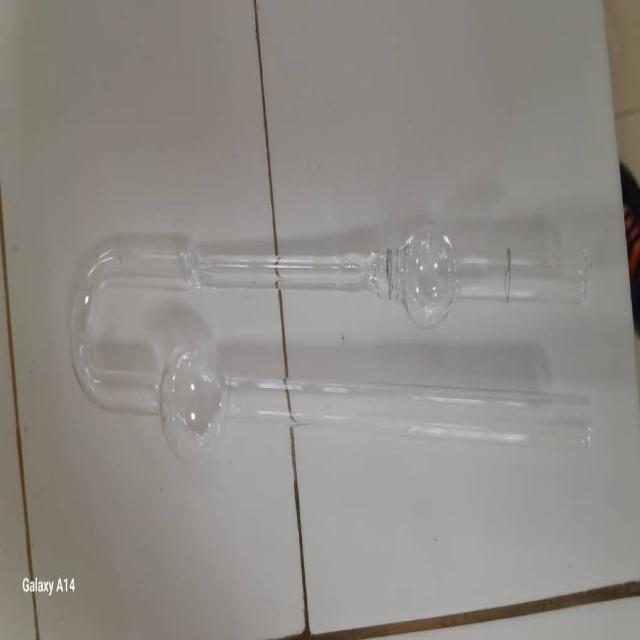Ostwald Viscometer: (63, 229, 605, 454)
